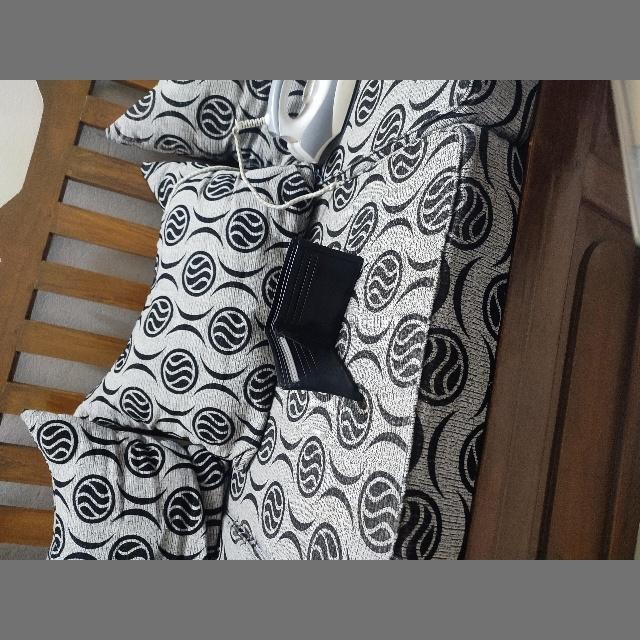Wallet: (265, 240, 363, 400)
